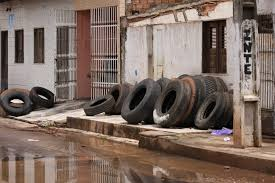tire: (152, 78, 191, 128), (121, 78, 156, 125), (194, 91, 226, 129), (1, 88, 31, 116), (84, 95, 115, 115), (31, 87, 54, 109), (108, 82, 122, 114)
